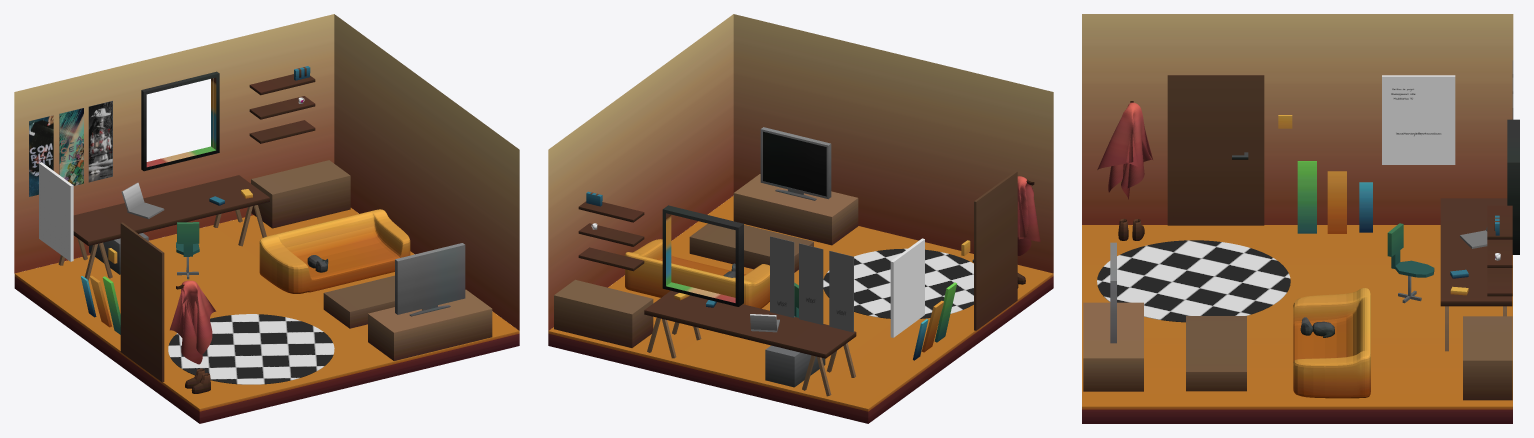
Rendered from ChillRoom.glb.
The picture shows the model from 3 angles, left to right: view 1: azimuth 30°, elevation 25°; view 2: azimuth 150°, elevation 25°; view 3: azimuth 270°, elevation 25°; orthographic projection. The views are drawn at different scales.
Parts seen in each view (by area): view 1: Walls.001, original, Couch, Tapis, Door, Desk, TV stand, Frame, art, TV, contact, Table (+11 smaller); view 2: Walls.001, original, Door, Frame, Desk, TV stand, Tapis, art, Couch, TV, Table, contact (+9 smaller); view 3: Walls.001, original, Door, Tapis, Couch, contact, TV stand, Desk, Table, art, Skates, Coat (+8 smaller).
Boxes of the visible parts, box(x1,y1,x2,y2) form: Walls.001: box(14, 14, 519, 330); original: box(14, 208, 519, 423); Couch: box(259, 209, 410, 293); Tapis: box(168, 314, 334, 384); Door: box(120, 222, 164, 382); Desk: box(73, 175, 269, 245); TV stand: box(368, 289, 492, 360); Frame: box(29, 100, 112, 196); art: box(251, 160, 350, 228); TV: box(395, 243, 465, 316); contact: box(39, 162, 73, 261); Table: box(323, 275, 394, 328); Walls.001: box(548, 14, 1053, 330); original: box(548, 196, 1053, 423); Door: box(972, 171, 1017, 330); Frame: box(770, 236, 853, 332); Desk: box(644, 290, 856, 358); TV stand: box(733, 174, 858, 245); Tapis: box(823, 248, 973, 318); art: box(554, 279, 653, 347); Couch: box(625, 239, 769, 308); TV: box(760, 127, 831, 200); Table: box(689, 223, 813, 272); contact: box(890, 238, 924, 337); Walls.001: box(1082, 14, 1513, 224); original: box(1082, 225, 1512, 423); Door: box(1167, 75, 1264, 225); Tapis: box(1097, 240, 1290, 322); Couch: box(1293, 288, 1370, 398); contact: box(1382, 75, 1455, 164); TV stand: box(1083, 302, 1143, 391); Desk: box(1440, 198, 1512, 306); Table: box(1186, 316, 1246, 391); art: box(1463, 316, 1512, 400); Skates: box(1297, 161, 1372, 233); Coat: box(1097, 102, 1152, 199).
Bounding box in the file's own units: 5.87 × 3.42 × 5.95.
Materials: 6 (6 with a texture image).
